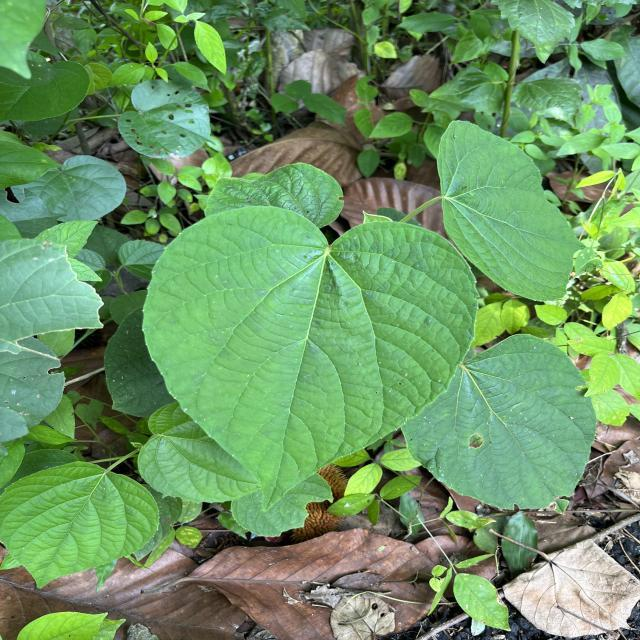Clerodendrum infortunatum: (145, 206, 481, 515), (402, 332, 600, 516), (434, 116, 586, 302), (1, 458, 165, 594)
